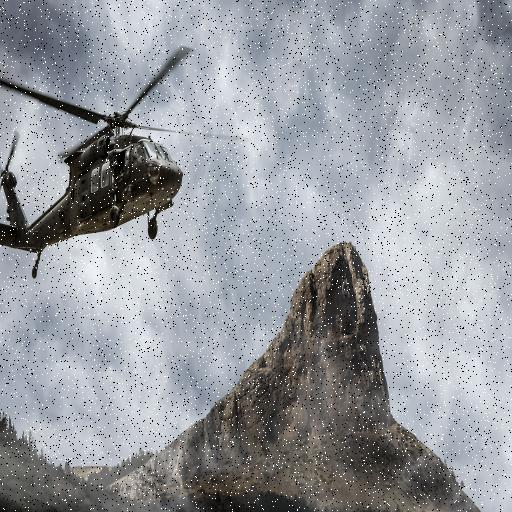helicopter: (1, 29, 248, 292)
